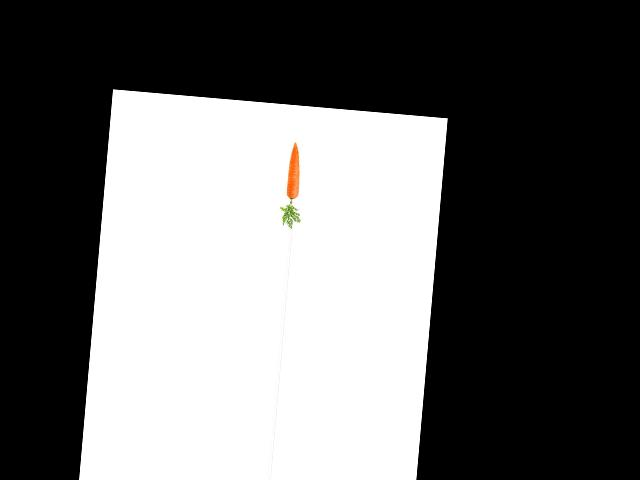carrot: (283, 139, 304, 201)
